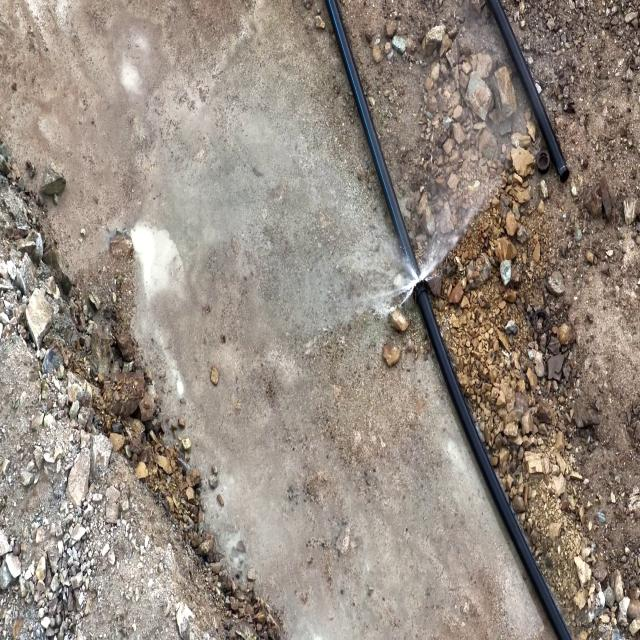leak: (342, 175, 500, 323)
